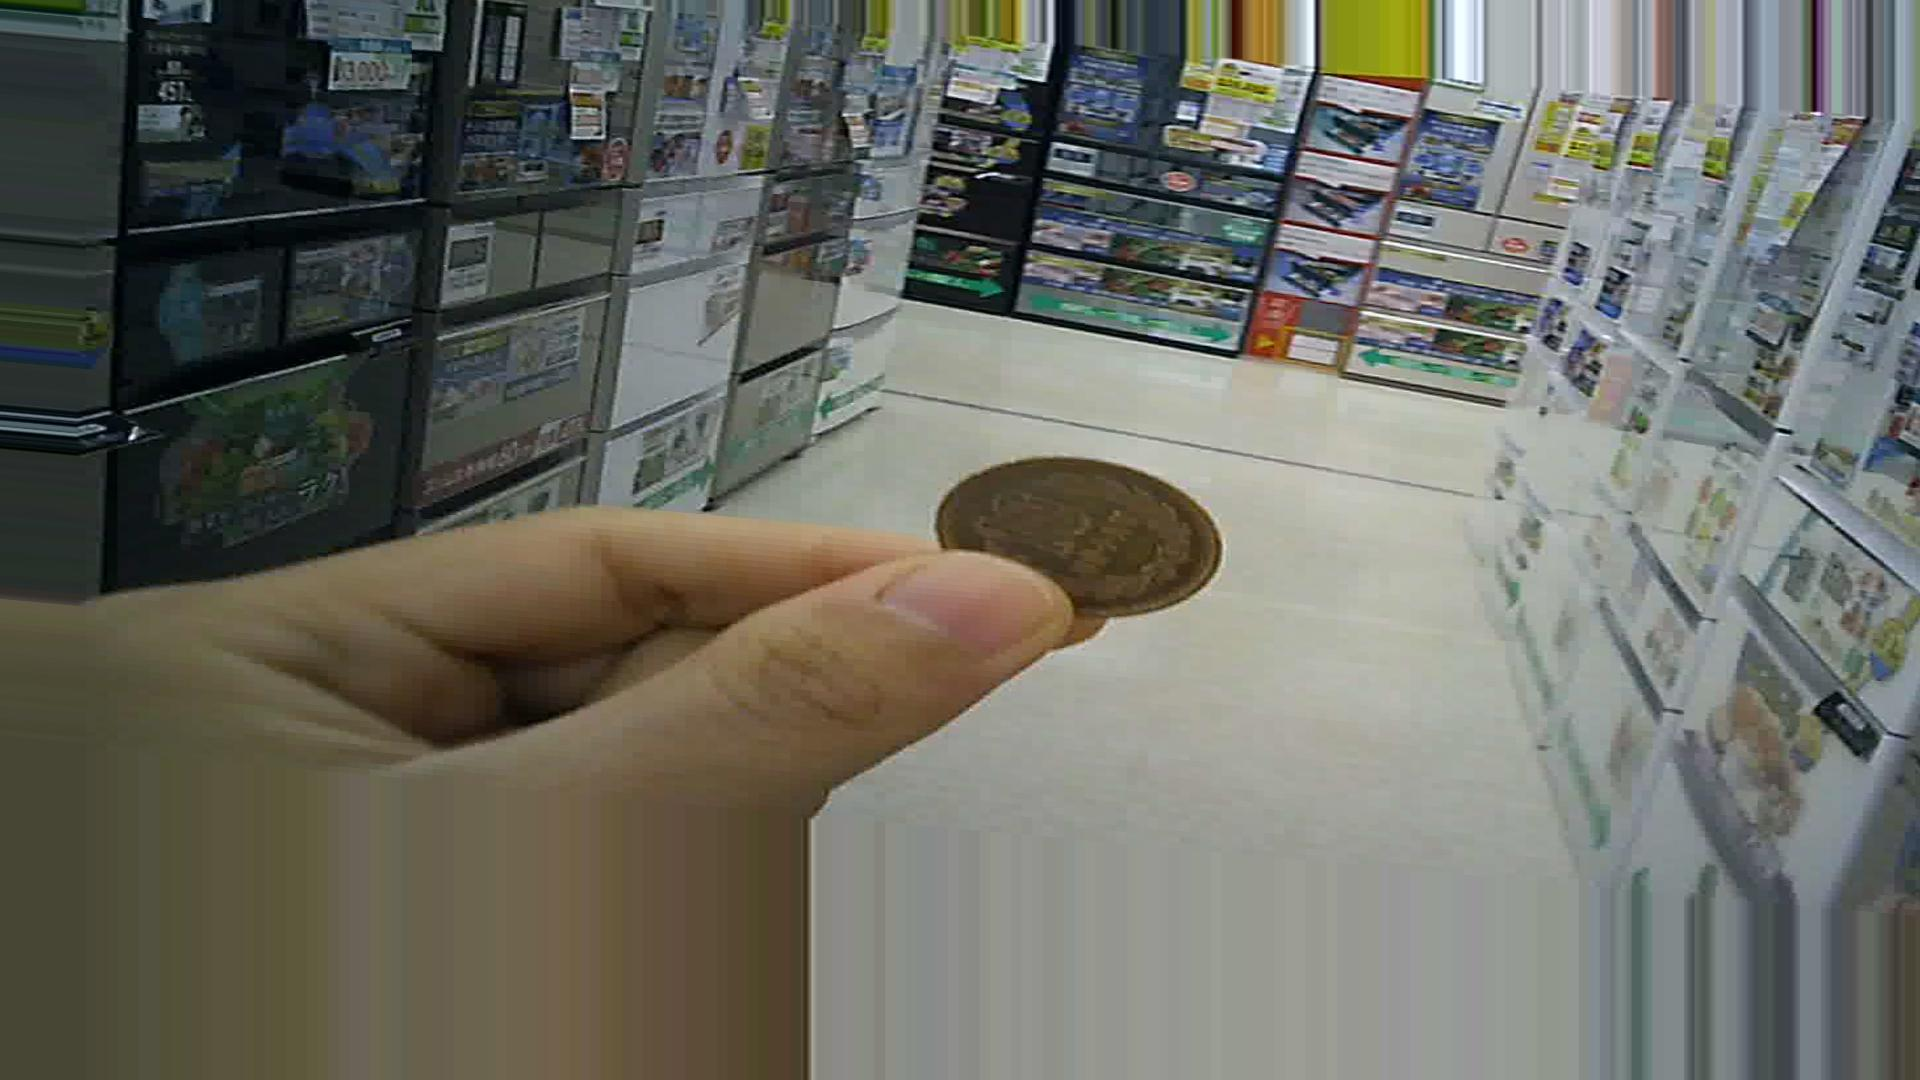10 Yen: (924, 439, 1229, 624)
